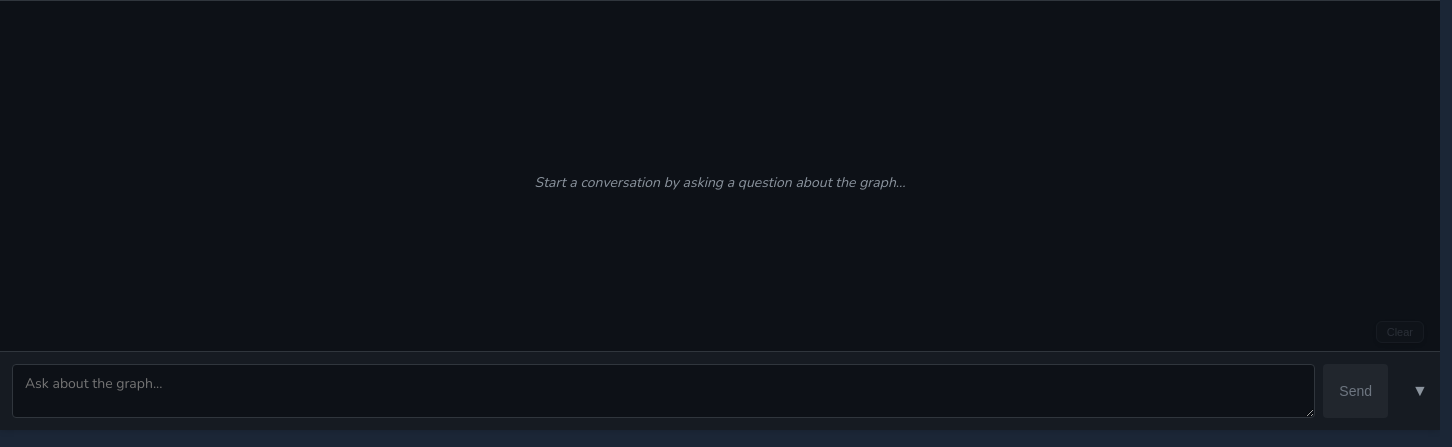
ChatPanel Component › User Story 2: Query Submission and Response Display › Query Submission › clears input field after successful submission
This screenshot has width=1452, height=447.
Type "test query" into the text box. click: [664, 391]
box: [12,364,1315,418]
Then press Enter
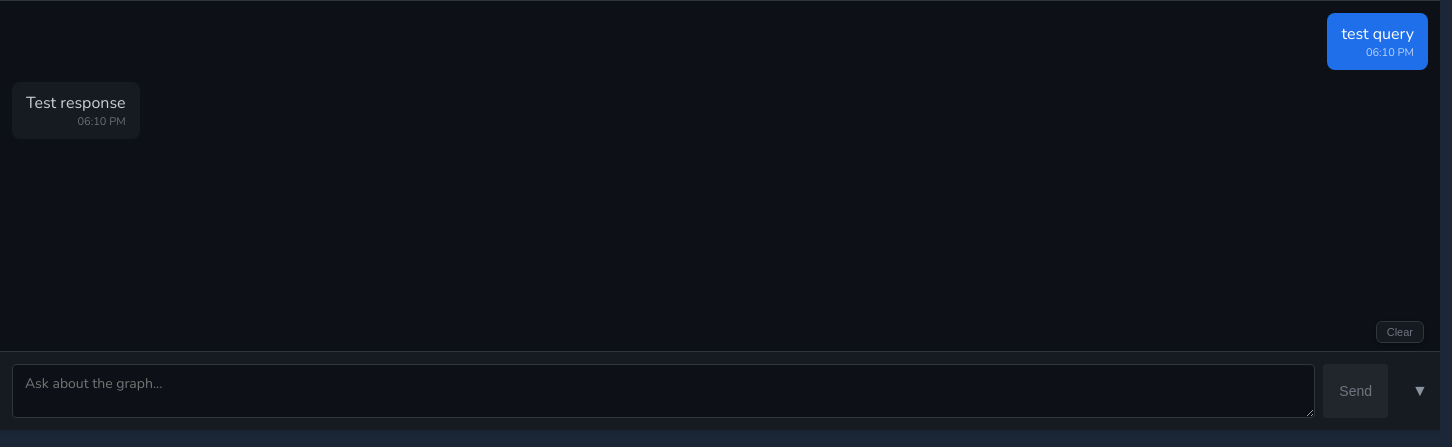
Expected: the text "Test response 06:10 PM" is shown, [12,82,140,139]
